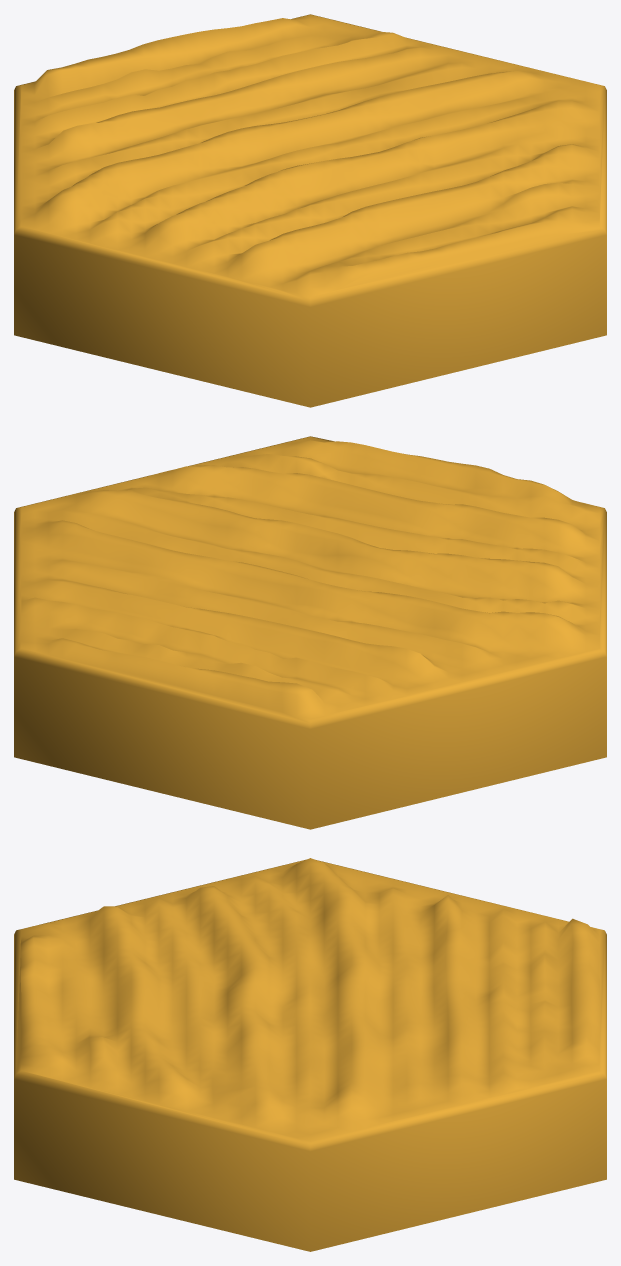
File: desert_full.glb
3 renders of one model, top to bottom at view 1: azimuth 30°, elevation 25°; view 2: azimuth 150°, elevation 25°; view 3: azimuth 270°, elevation 25°, orthographic.
Visible parts, largest first — view 1: Tile_Full.001; view 2: Tile_Full.001; view 3: Tile_Full.001.
Boxes of the visible parts, x1,y1,x2,y2 form: Tile_Full.001: (14,14,606,407); Tile_Full.001: (14,436,606,829); Tile_Full.001: (14,858,606,1251).
Size of the model in its own units: 1.16 by 0.2414 by 1.
